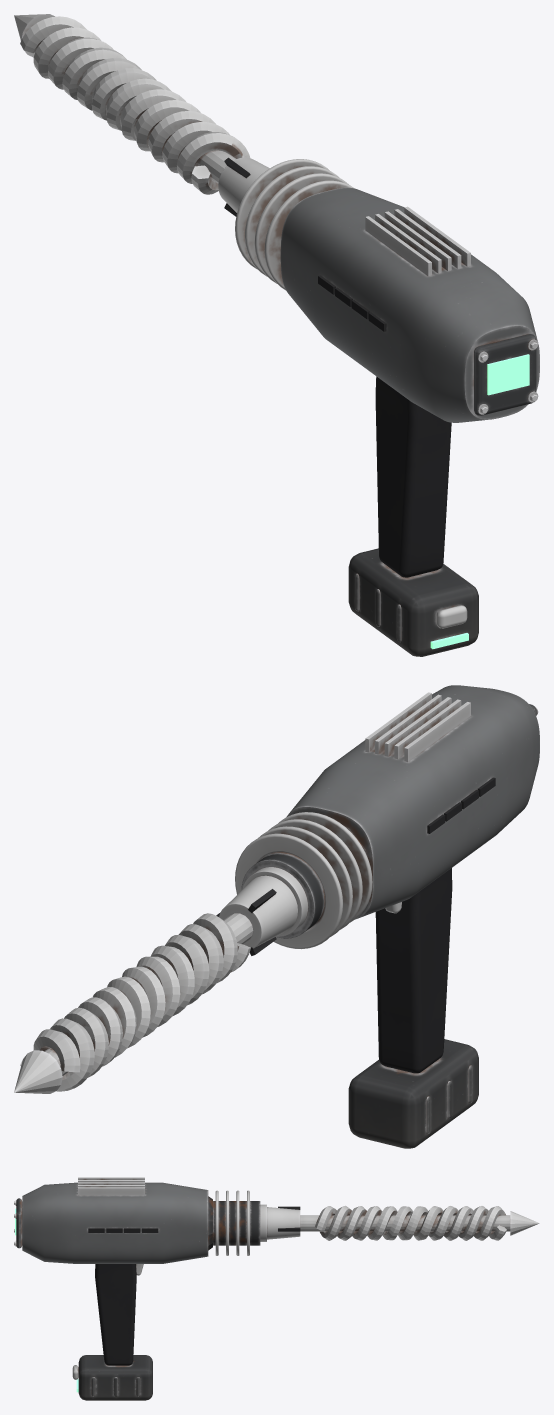
Rendered from SM_MiningTool.glb.
3 renders of one model, top to bottom at view 1: azimuth 30°, elevation 25°; view 2: azimuth 150°, elevation 25°; view 3: azimuth 270°, elevation 25°, orthographic. The views are drawn at different scales.
Parts seen in each view (by area): view 1: SM_MiningTool, SM_MiningTool_Bit; view 2: SM_MiningTool, SM_MiningTool_Bit; view 3: SM_MiningTool, SM_MiningTool_Bit.
Part boxes in pixels (x1,y1,x2,y2): SM_MiningTool: (235,159,539,656); SM_MiningTool_Bit: (14,14,269,216); SM_MiningTool: (235,685,539,1148); SM_MiningTool_Bit: (14,875,297,1093); SM_MiningTool: (14,1177,266,1400); SM_MiningTool_Bit: (267,1205,539,1240).
Size of the model in its own units: 0.092 by 0.313 by 0.707.
Materials: 6 (5 with a texture image).
